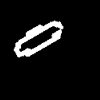chain: (14, 21, 62, 56)
